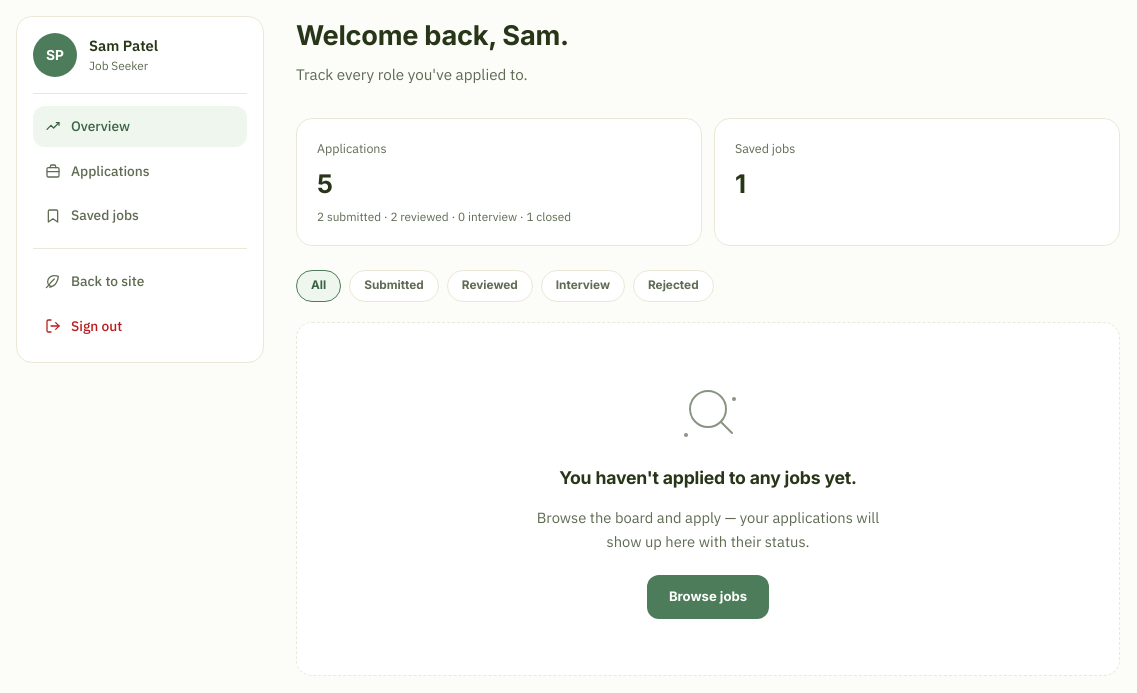
SeekerDashboard saved jobs (story-jobs-16 D7) › CTA on saved job row says 'Apply' (AC D7)
The image size is (1137, 693).
Click the button "Saved jobs": click(140, 216) [33, 195, 247, 236]
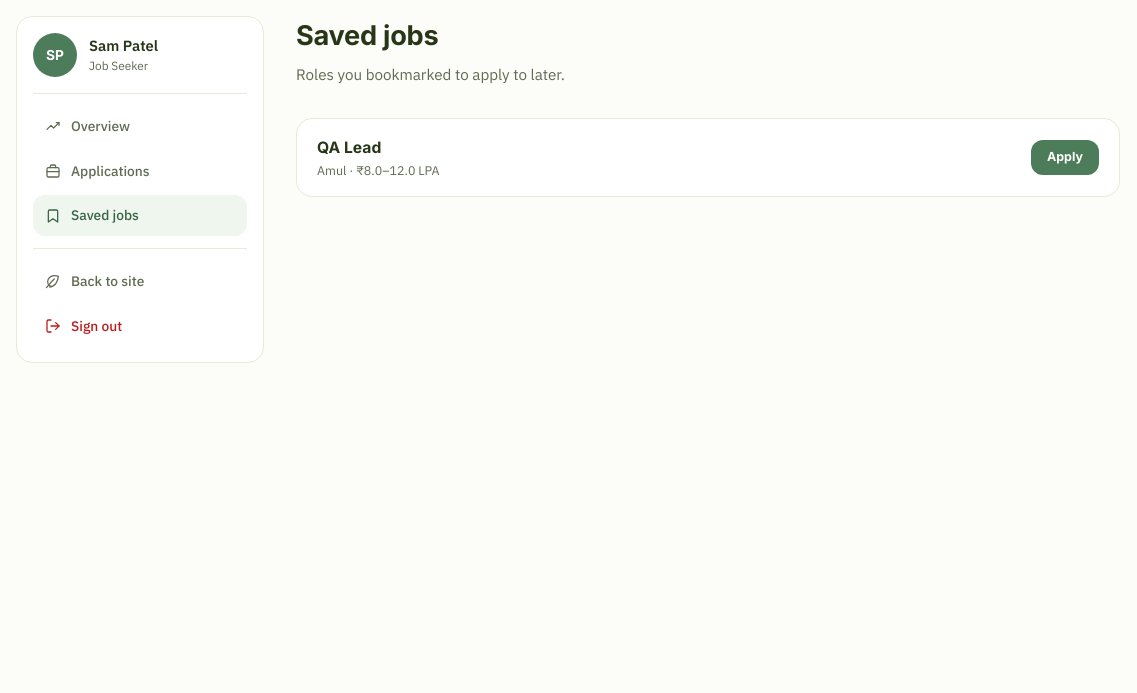
Result: the link with test id "saved-job-apply-cta" reads "Apply" at [1031, 140, 1099, 175]
